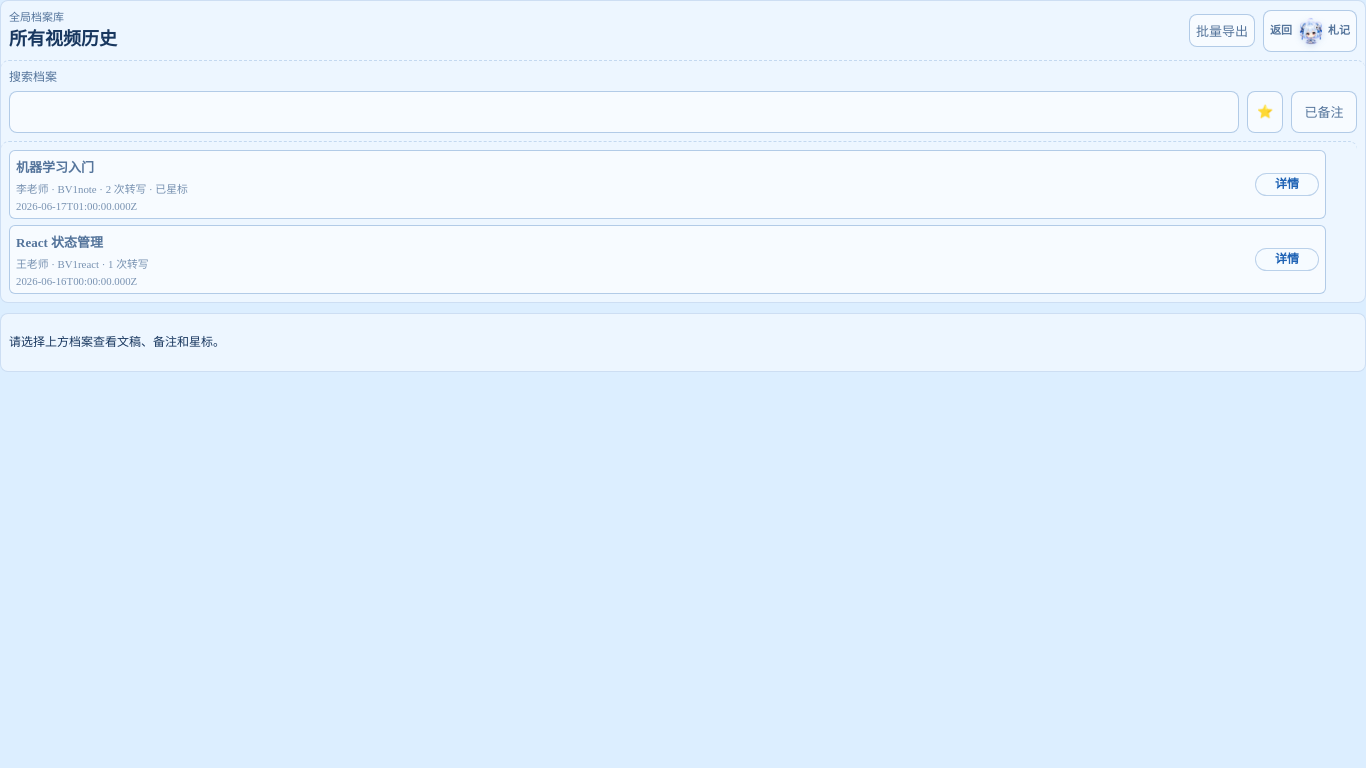
Test: VideoNoteArchivePanel › renders searchable archive list before showing selected video detail
The width and height of the screenshot is (1366, 768).
Expected: the search field labelled "搜索档案" is shown, [9,91,1239,133]
Expected: the button "React 状态管理" is shown, [9,225,1326,294]
Click the button "机器学习入门" at (55, 167), box [9,150,1326,219]
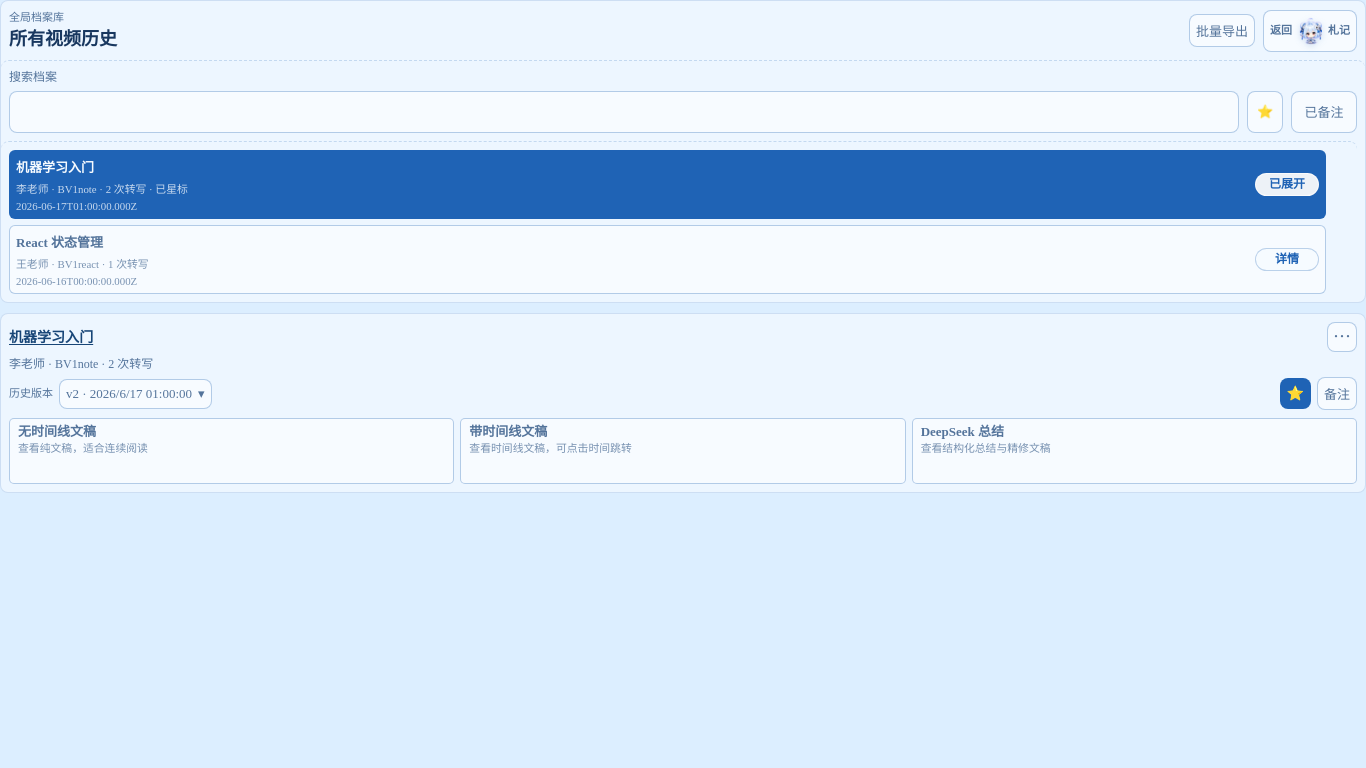
Expected: the text "第二版纯文稿。" is not shown
Click the tab "无时间线文稿 查看纯文稿，适合连续阅读" at (57, 432), box [9,418,454,484]
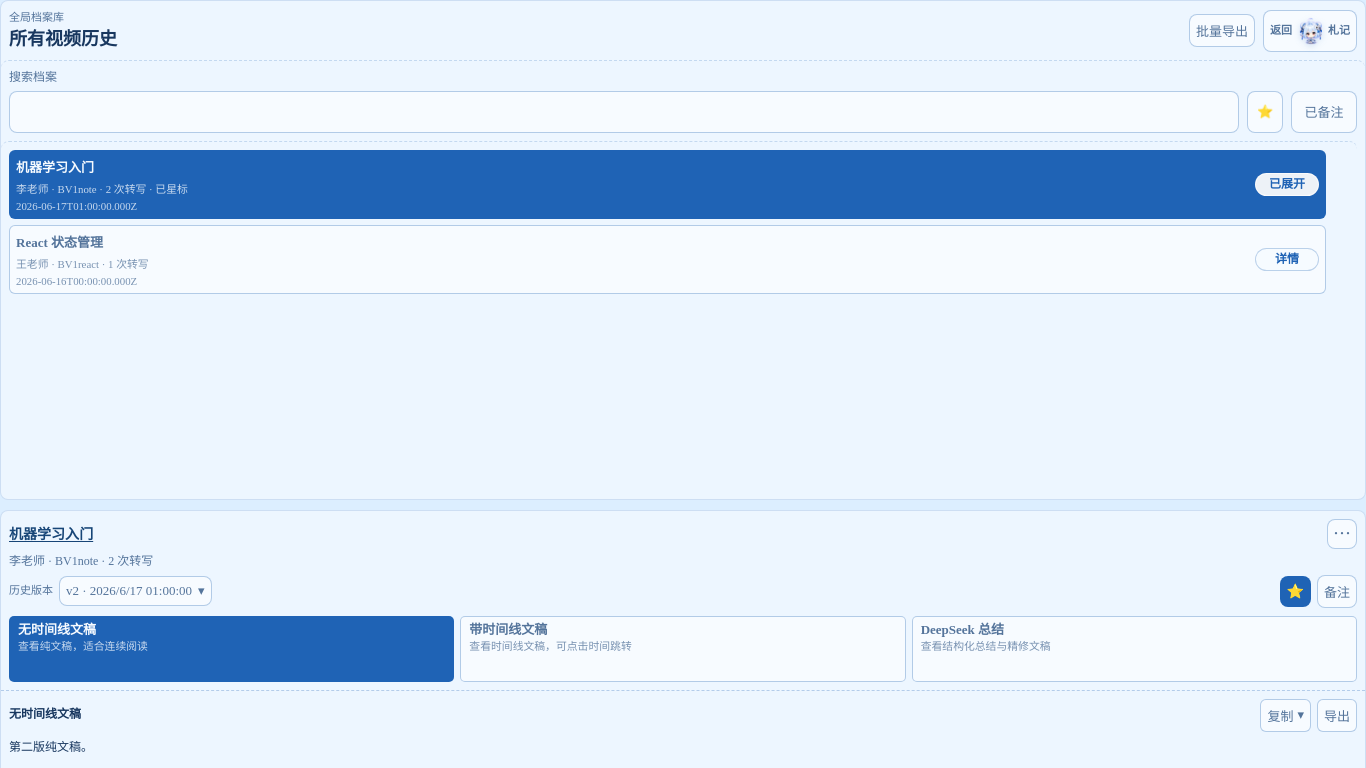
Result: the text "第二版纯文稿。" is shown at [9,740,93,754]
